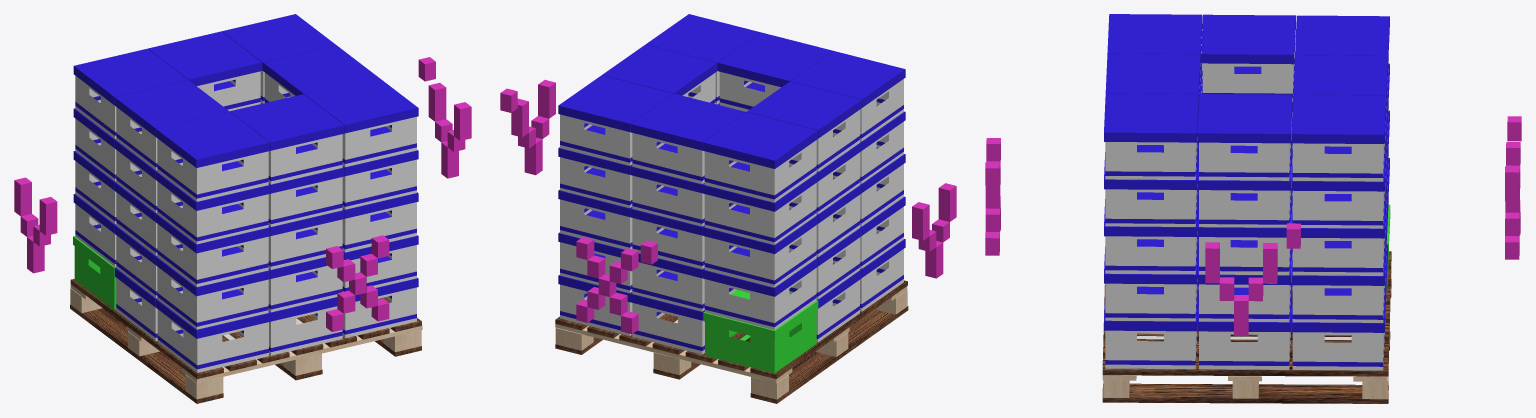
Rendered from caja131.gltf.
The picture shows the model from 3 angles, left to right: view 1: azimuth 30°, elevation 25°; view 2: azimuth 150°, elevation 25°; view 3: azimuth 270°, elevation 25°; orthographic projection. The views are drawn at different scales.
Visible parts, largest first — view 1: Cube.031_1, Cube.033_1, Cube.026_1, Cube.032_1, Cube.029_1, Cube.030_1, Cube.027_1, Cube.007_0, Cube.031_0, Cube.020_0, Cube.012_0, Cube.039_0 (+53 smaller); view 2: CajaVerde, Cube.029_1, Cube.032_1, Cube.028_1, Cube.033_1, Cube.030_1, Cube.031_1, Cube.027_1, Cube.029_0, Cube.022_0, Cube.014_0, Cube.037_0 (+53 smaller); view 3: Cube.026_1, Cube.027_1, Cube.028_1, Cube.030_1, Cube055, Cube.029_1, Cube.033_1, Cube.032_1, Cube.031_1, Cube.003_0, Cube.001_0, Cube.002_0 (+33 smaller).
Part boxes in pixels (x1,y1,x2,y2): Cube.031_1: (155,111,270,198); Cube.033_1: (230,94,344,181); Cube.026_1: (304,76,418,163); Cube.032_1: (148,31,262,109); Cube.029_1: (73,48,187,135); Cube.030_1: (114,80,228,167); Cube.027_1: (263,45,377,102); Cube.007_0: (157,309,268,372); Cube.031_0: (157,138,268,201); Cube.020_0: (157,224,268,286); Cube.012_0: (157,267,268,329); Cube.039_0: (157,181,268,244); CajaVerde: (703,289,818,373); Cube.029_1: (703,112,818,199); Cube.032_1: (630,93,745,180); Cube.028_1: (558,75,673,162); Cube.033_1: (718,32,832,109); Cube.030_1: (747,81,861,168); Cube.031_1: (790,51,905,138); Cube.027_1: (602,44,717,103); Cube.029_0: (704,140,816,202); Cube.022_0: (704,225,816,287); Cube.014_0: (704,268,816,329); Cube.037_0: (704,183,816,244); Cube.026_1: (1104,93,1198,176); Cube.027_1: (1197,94,1292,177); Cube.028_1: (1291,94,1386,177); Cube.030_1: (1201,14,1295,97); Cube055: (1102,383,1388,403); Cube.029_1: (1295,15,1389,98); Cube.033_1: (1105,53,1200,136); Cube.032_1: (1293,55,1387,135); Cube.031_1: (1107,14,1202,92); Cube.003_0: (1292,332,1384,370); Cube.001_0: (1105,330,1197,369); Cube.002_0: (1199,331,1290,369).
Size of the model in its own units: 4.24 by 2.33 by 4.23.
82 materials, 2 textured.
